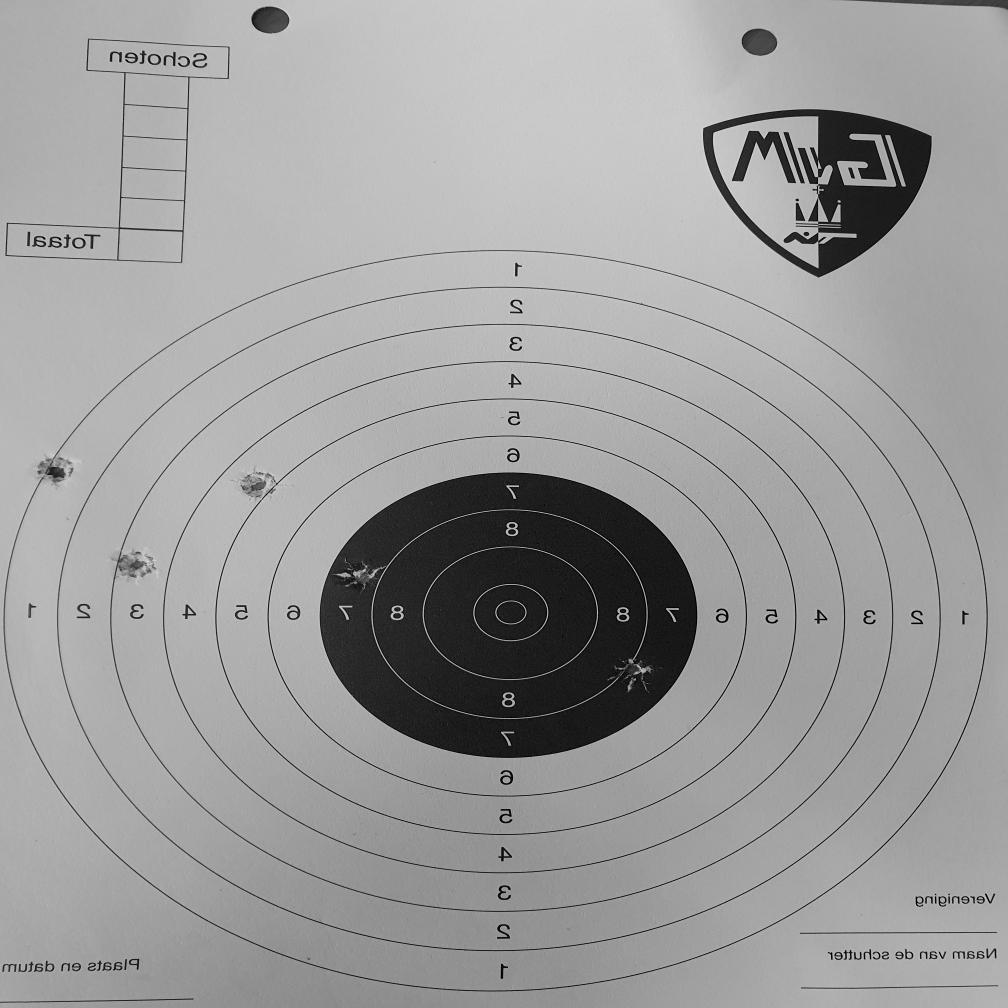1: (33, 454, 80, 487)
3: (106, 548, 164, 581)
5: (232, 467, 286, 501)
7: (332, 556, 388, 594)
8: (606, 658, 658, 692)
Target: (12, 253, 988, 992)
black_contour: (319, 470, 699, 759)
